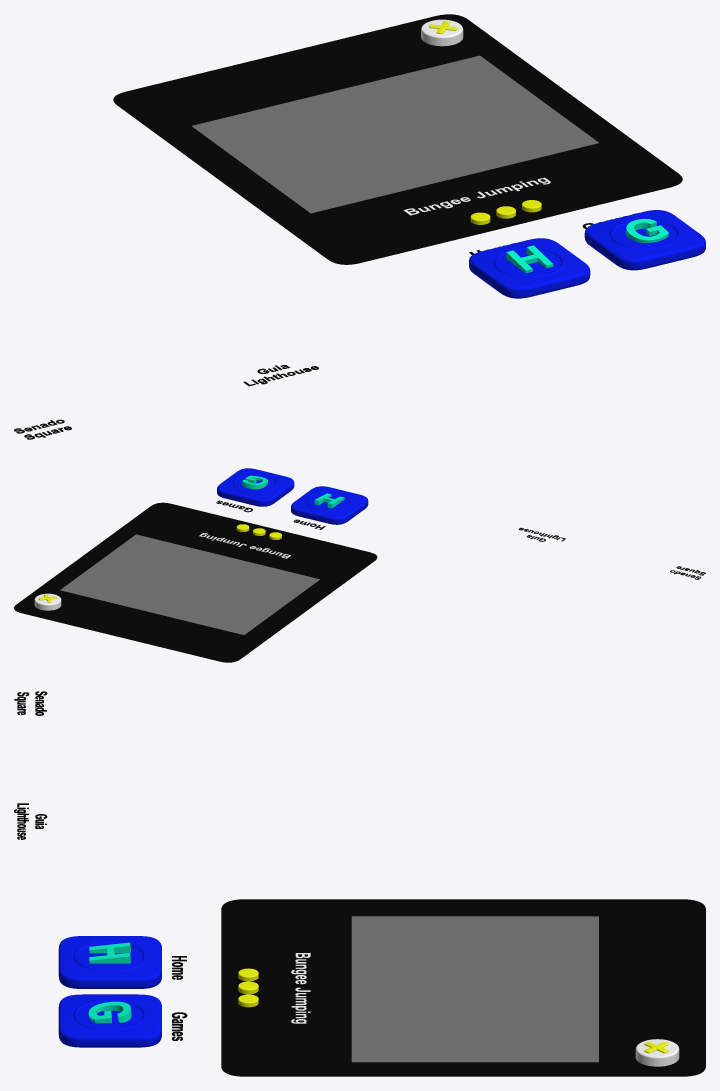
File: macautower_right.obj
3 renders of one model, top to bottom at view 1: azimuth 30°, elevation 25°; view 2: azimuth 150°, elevation 25°; view 3: azimuth 270°, elevation 25°, orthographic. The views are drawn at different scales.
Parts seen in each view (by area): view 1: Box013, Box008, Box006, Box009, Cylinder011, Text012, Text011; view 2: Box013, Box008, Box006, Box009, Cylinder011; view 3: Box013, Box008, Box009, Box006, Cylinder011, Text011, Text012, Text003.
Boxes of the visible parts, left/top/right/bottom form: Box013: left=113, top=14, right=682, bottom=264; Box008: left=191, top=55, right=598, bottom=213; Box006: left=469, top=238, right=590, bottom=298; Box009: left=584, top=210, right=705, bottom=270; Cylinder011: left=421, top=19, right=463, bottom=46; Text012: left=626, top=219, right=668, bottom=242; Text011: left=506, top=245, right=553, bottom=273; Box013: left=14, top=502, right=377, bottom=662; Box008: left=60, top=534, right=319, bottom=634; Box006: left=291, top=486, right=368, bottom=524; Box009: left=217, top=468, right=294, bottom=506; Cylinder011: left=34, top=593, right=61, bottom=610; Box013: left=221, top=899, right=705, bottom=1076; Box008: left=351, top=916, right=598, bottom=1062; Box009: left=58, top=994, right=161, bottom=1047; Box006: left=58, top=936, right=161, bottom=988; Cylinder011: left=635, top=1039, right=679, bottom=1066; Text011: left=89, top=942, right=130, bottom=963; Text012: left=88, top=1001, right=131, bottom=1023; Text003: left=291, top=953, right=310, bottom=1023.
Bounding box in the file's own units: 353 × 8.15 × 268.
